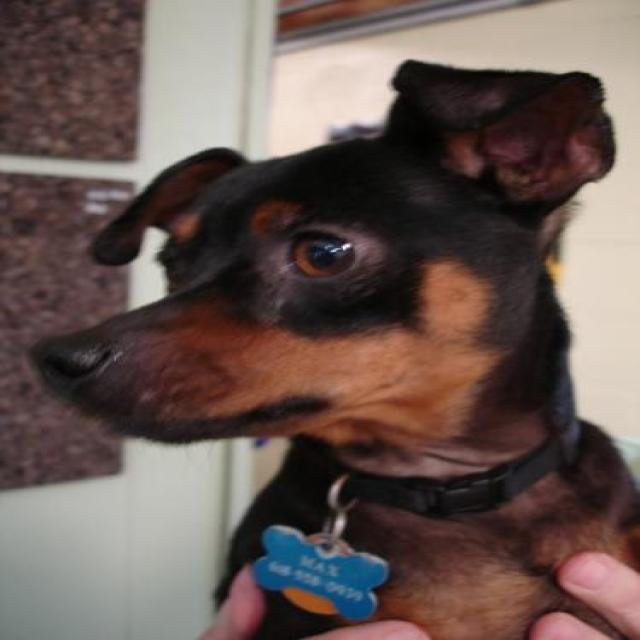Dogs: (26, 56, 638, 639)
